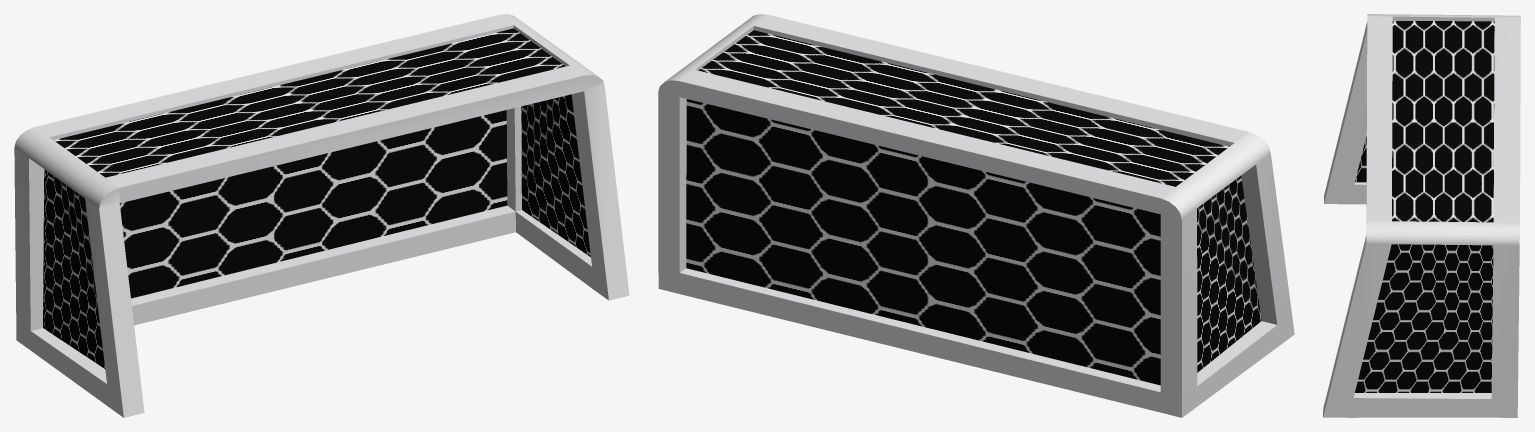
The picture shows the model from 3 angles, left to right: view 1: azimuth 30°, elevation 25°; view 2: azimuth 150°, elevation 25°; view 3: azimuth 270°, elevation 25°; orthographic projection. The views are drawn at different scales.
Visible parts, largest first — view 1: go_ru, pPlane2, pPlane4, pPlane1, pPlane3; view 2: pPlane2, go_ru, pPlane4, pPlane1; view 3: go_ru, pPlane4, pPlane3, pPlane1.
Part boxes in pixels (x1=…): go_ru: x1=14, y1=14, x2=629, y2=417; pPlane2: x1=119, y1=110, x2=507, y2=298; pPlane4: x1=53, y1=28, x2=565, y2=177; pPlane1: x1=43, y1=169, x2=105, y2=368; pPlane3: x1=521, y1=94, x2=590, y2=256; pPlane2: x1=686, y1=99, x2=1160, y2=385; go_ru: x1=658, y1=14, x2=1294, y2=417; pPlane4: x1=698, y1=30, x2=1229, y2=186; pPlane1: x1=1197, y1=176, x2=1261, y2=372; go_ru: x1=1323, y1=14, x2=1520, y2=417; pPlane4: x1=1392, y1=21, x2=1494, y2=222; pPlane3: x1=1355, y1=244, x2=1493, y2=392; pPlane1: x1=1355, y1=136, x2=1366, y2=182.
Bounding box in the file's own units: 11.14 × 4.4 × 4.18.
2 materials, 2 textured.
